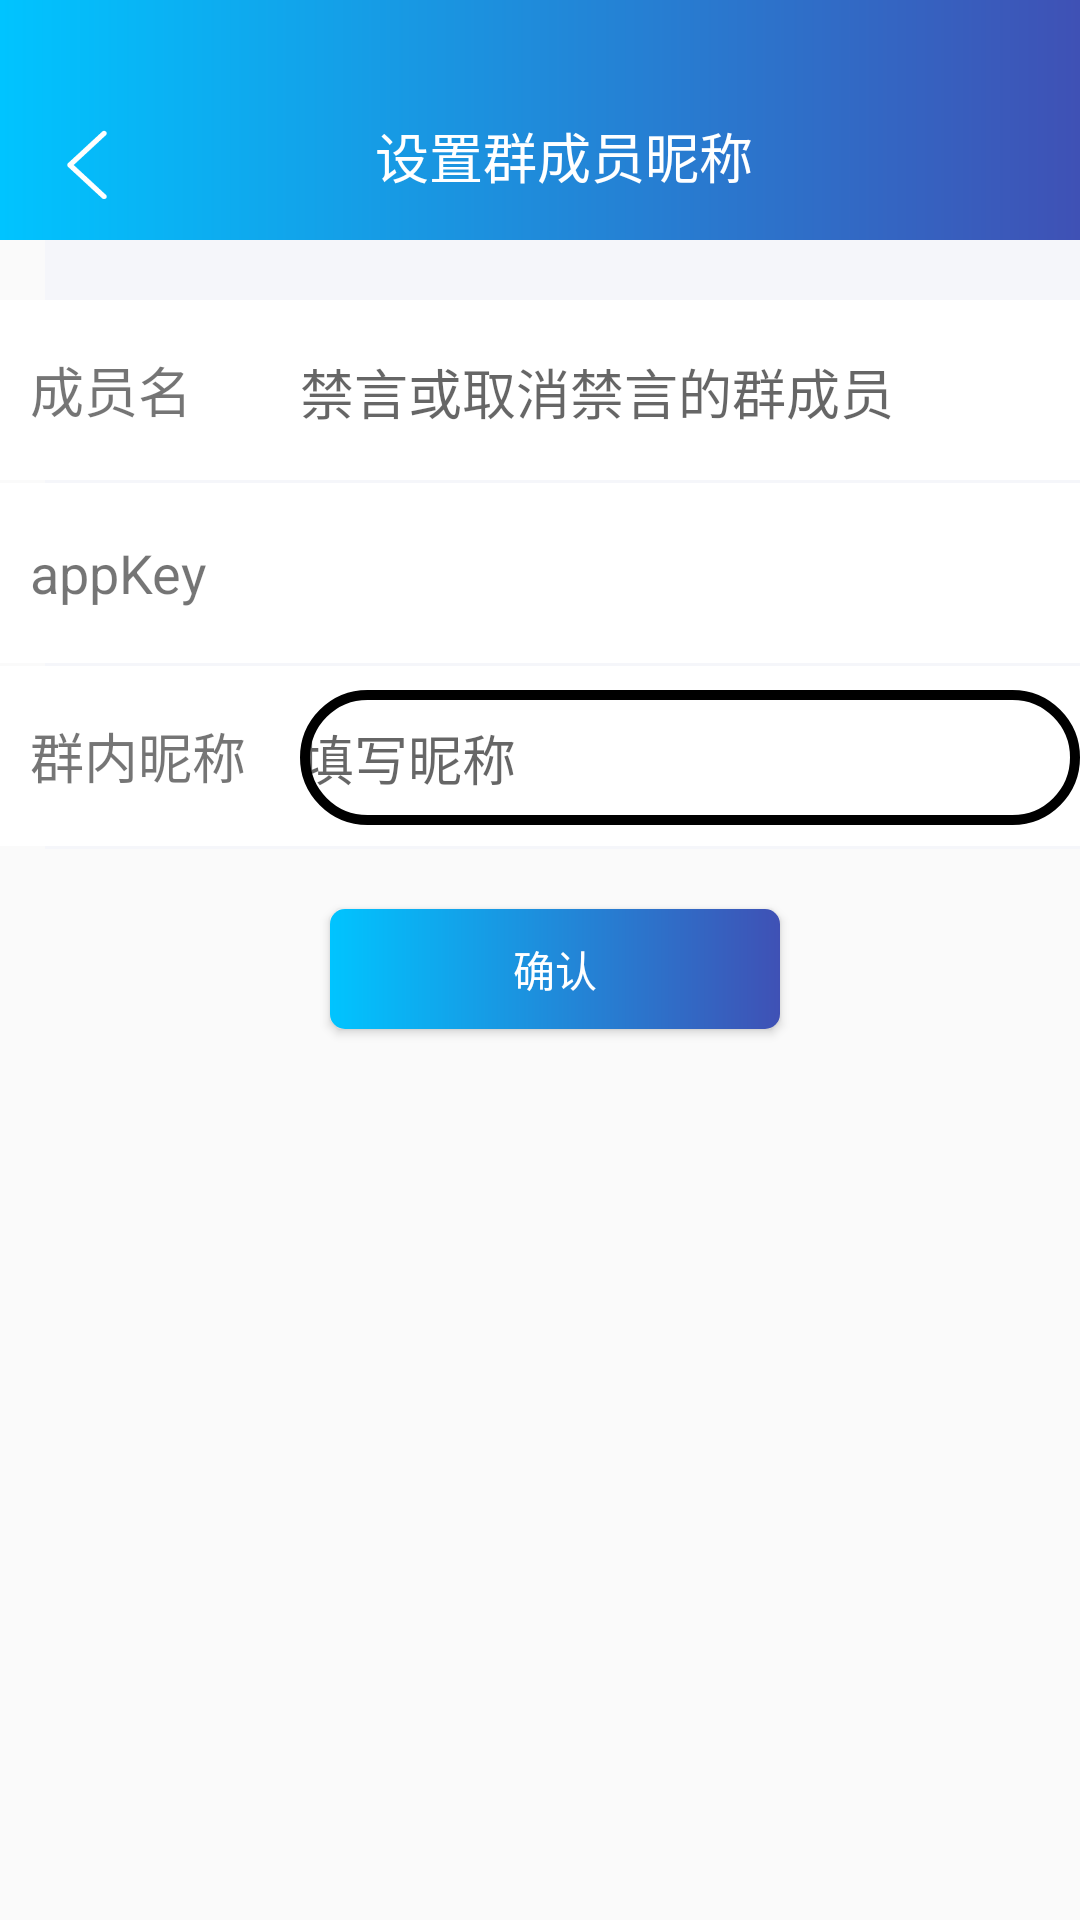

Where icons sit on this 1080x1920 app screen, as (x1, y1, x2, y2):
back: (67, 130, 107, 199)
